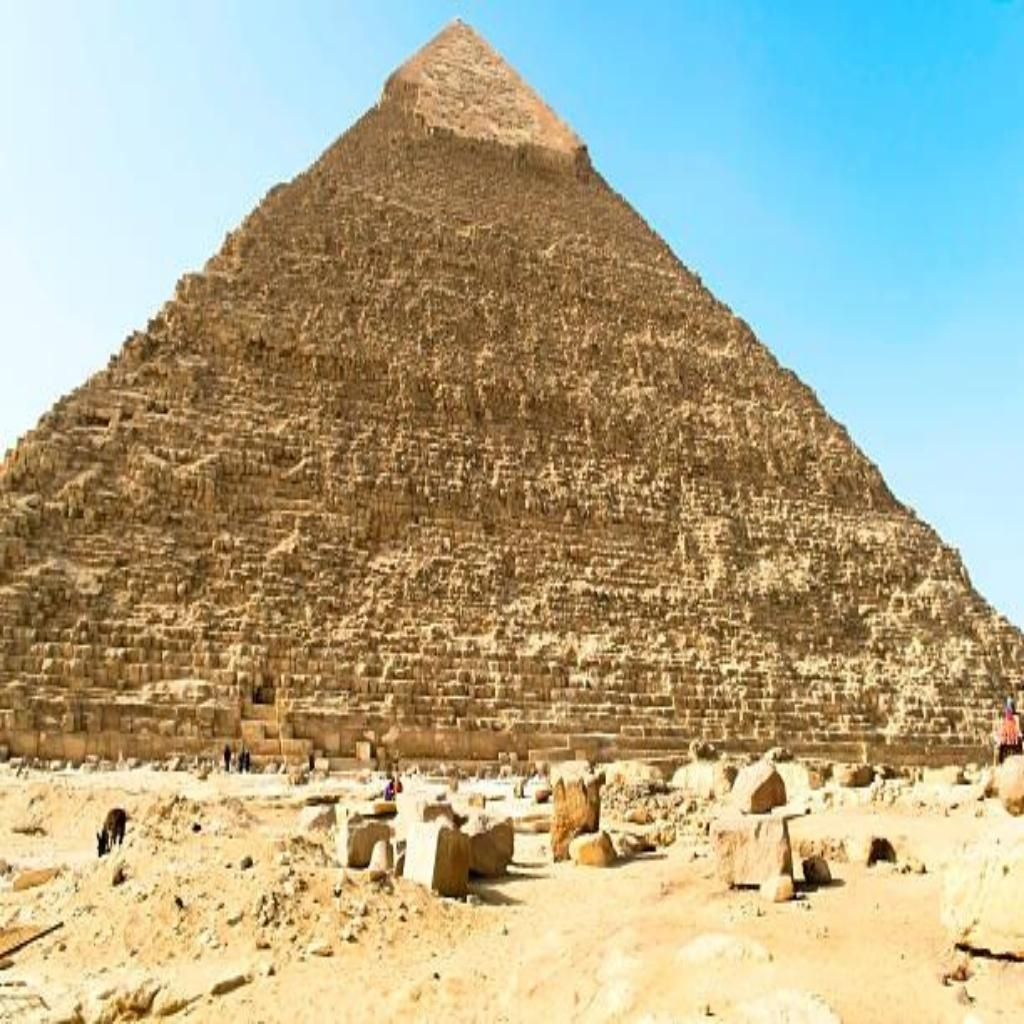Great Pyramids of Giza: (2, 14, 1019, 768)
